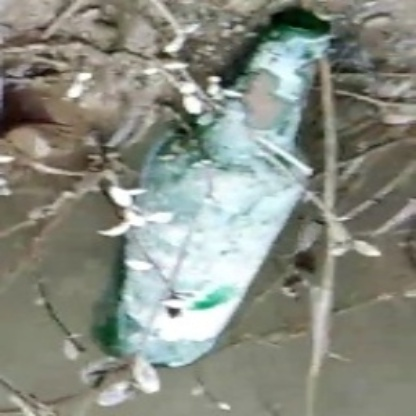bottle: (93, 11, 329, 360)
